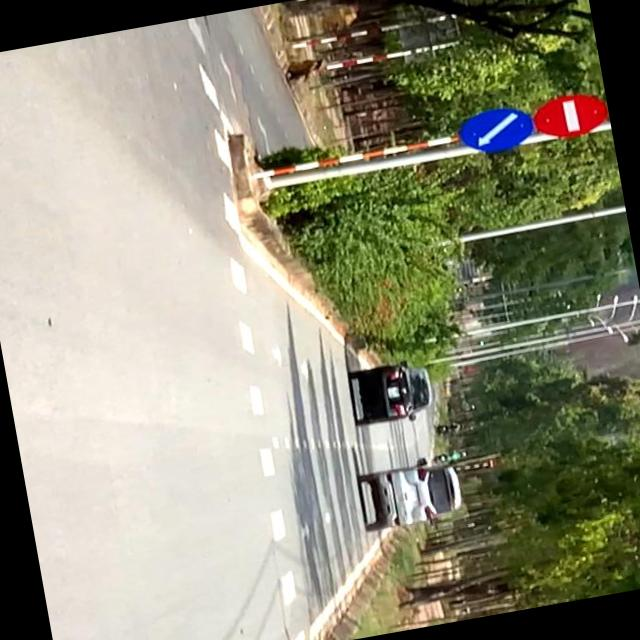P-102: (530, 86, 611, 140)
R-302a: (457, 102, 537, 158)
